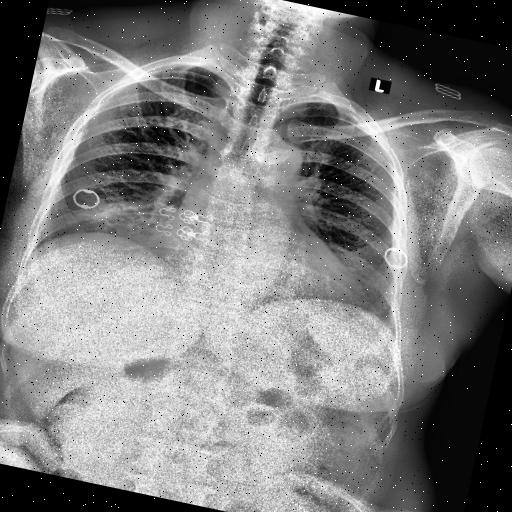0- Aortic enlargement: (259, 135, 308, 188)
3- Cardiomegaly: (143, 202, 378, 310), (148, 206, 374, 305), (139, 215, 365, 306)
